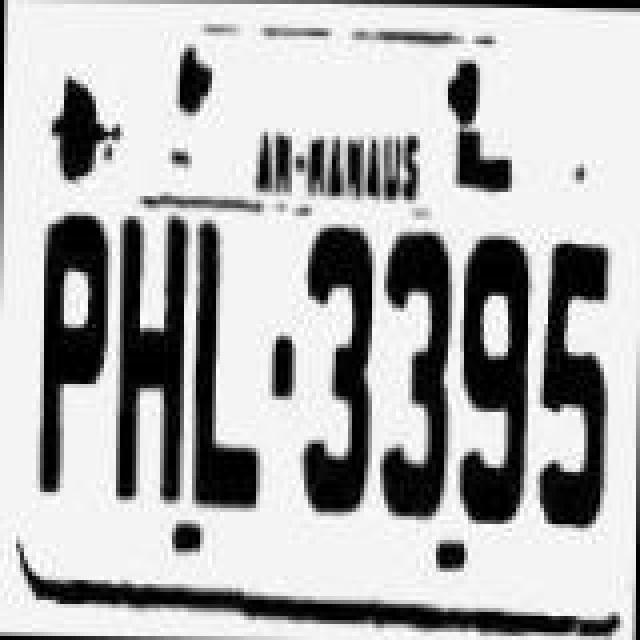3: (294, 220, 378, 520), (376, 226, 456, 526)
5: (534, 238, 630, 546)
9: (452, 230, 536, 534)
H: (112, 210, 192, 506)
L: (186, 222, 270, 514)
P: (30, 200, 114, 496)
